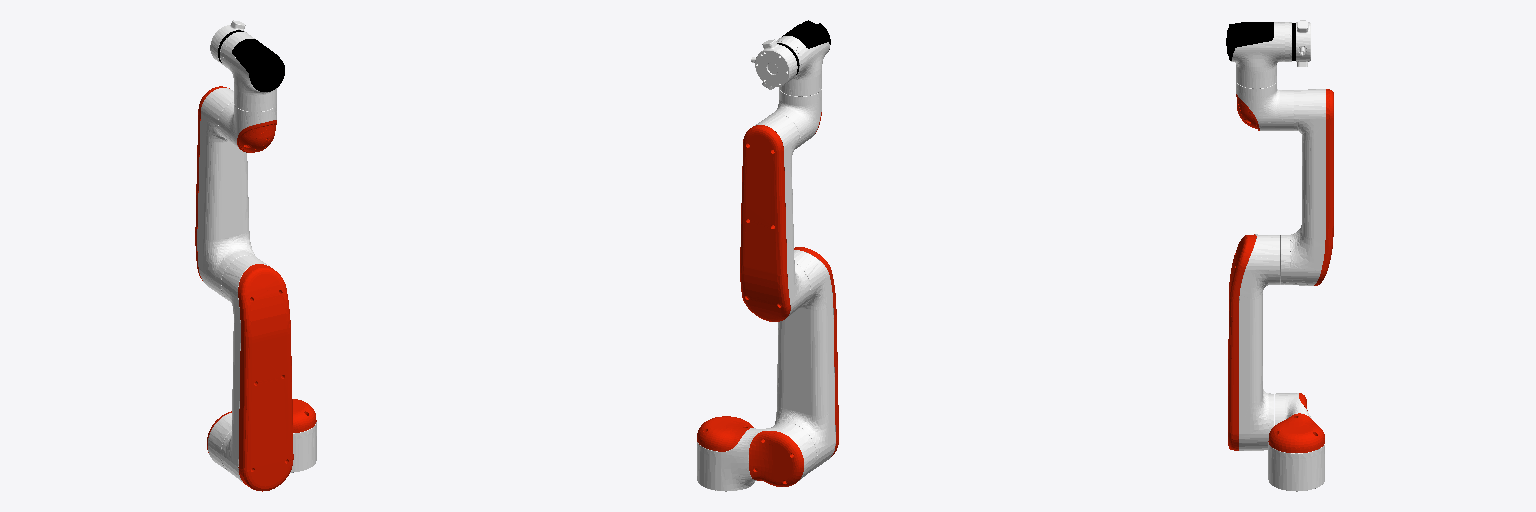
URDF robot description (rm_eco65):
<?xml version='1.0' encoding='UTF-8'?>
<!-- This URDF was automatically created by SolidWorks to URDF Exporter! Originally created by Stephen Brawner (brawner@gmail.com)
     Commit Version: 1.6.0-1-g15f4949  Build Version: 1.6.7594.29634
     For more information, please see http://wiki.ros.org/sw_urdf_exporter-->
<robot name="rm_eco65">
  <link name="baselink">
    <inertial>
      <origin rpy="0 0 0" xyz="0.003036 -0.000732 0.035587"/>
      <mass value="0.379"/>
      <inertia ixx="0.00052904" ixy="6.208e-06" ixz="-4.25e-05" iyy="0.000554542" iyz="7.765e-06" izz="0.000472967"/>
    </inertial>
    <visual>
      <origin rpy="0 0 0" xyz="0 0 0"/>
      <geometry>
        <mesh filename="package://rm_description/meshes/dae/eco65/base_link.dae"/>
      </geometry>
    </visual>
    <collision>
      <origin xyz="0 0 0" rpy="0 0 0"/>
      <geometry>
        <mesh filename="package://rm_description/meshes/ECO65/baselink.STL"/>
      </geometry>
    </collision>
  </link>
  <link name="Link1">
    <inertial>
      <origin rpy="0 0 0" xyz="-0.011054685 2.7361459e-05 -0.03347252"/>
      <mass value="1.50782"/>
      <inertia ixx="0.0019588448" ixy="-2.3338144e-05" ixz="0.00053244189" iyy="0.0031016399" iyz="9.1355063e-06" izz="0.002425702"/>
    </inertial>
    <visual>
      <origin rpy="0 0 0" xyz="0 0 0"/>
      <geometry>
        <mesh filename="package://rm_description/meshes/dae/eco65/link_1.dae"/>
      </geometry>
    </visual>
    <collision>
      <origin xyz="0 0 0" rpy="0 0 0"/>
      <geometry>
        <mesh filename="package://rm_description/meshes/ECO65/Link1.STL"/>
      </geometry>
    </collision>
  </link>
  <joint name="joint1" type="revolute">
    <origin xyz="0 0 0.1625" rpy="0 0 0"/>
    <parent link="baselink"/>
    <child link="Link1"/>
    <axis xyz="0 0 1"/>
    <limit effort="60" lower="-3.106686" upper="3.106686" velocity="3.141593"/>
  </joint>
  <link name="Link2">
    <inertial>
      <origin rpy="0 0 0" xyz="-1.1827560982036e-05 0.0581820316859641 0.0523635875292498"/>
      <mass value="2.0227481"/>
      <inertia ixx="0.0173147479782545" ixy="-6.2090363142666e-06" ixz="2.96020913640401e-06" iyy="0.00227460292023923" iyz="-0.00144144918722487" izz="0.0172255442015063"/>
    </inertial>
    <visual>
      <origin rpy="3.14158898038469 7.34641020661009e-06 1.5707963267814" xyz="0 0 0"/>
      <geometry>
        <mesh filename="package://rm_description/meshes/dae/eco65/link_2.dae"/>
      </geometry>
    </visual>
    <collision>
      <origin rpy="3.14158898038469 7.34641020661009e-06 1.5707963267814" xyz="0 0 0"/>
      <geometry>
        <mesh filename="package://rm_description/meshes/ECO65/Link2.STL"/>
      </geometry>
    </collision>
  </link>
  <joint name="joint2" type="revolute">
    <origin rpy="1.5708 0 0" xyz="-0.086 0 0"/>
    <parent link="Link1"/>
    <child link="Link2"/>
    <axis xyz="3.67320510324953e-06 -7.3464102065635e-06 -0.999999999966269"/>
    <limit effort="60" lower="-3.106686" upper="2.356194" velocity="3.141593"/>
  </joint>
  <link name="Link3">
    <inertial>
      <origin rpy="0 0 0" xyz="0.0927608650369262 -9.35058669887521e-05 0.00181173169117229"/>
      <mass value="1.8858232"/>
      <inertia ixx="0.00191652381683187" ixy="-3.36456196501919e-06" ixz="-0.00169426703402793" iyy="0.0224831040748002" iyz="4.49340801680471e-06" izz="0.0218928120083679"/>
    </inertial>
    <visual>
      <origin rpy="-1.10196153102445e-05 -7.34638322152925e-06 3.67327256545311e-06" xyz="0 0 0"/>
      <geometry>
        <mesh filename="package://rm_description/meshes/dae/eco65/link_3.dae"/>
      </geometry>
    </visual>
    <collision>
      <origin rpy="-1.10196153102445e-05 -7.34638322152925e-06 3.67327256545311e-06" xyz="0 0 0"/>
      <geometry>
        <mesh filename="package://rm_description/meshes/ECO65/Link3.STL"/>
      </geometry>
    </collision>
  </link>
  <joint name="joint3" type="revolute">
    <origin rpy="-3.14158530717959 0 1.5708" xyz="3.50802442650178e-12 0.259999999992984 -1.9100666536913e-06"/>
    <parent link="Link2"/>
    <child link="Link3"/>
    <axis xyz="-7.34642369894967e-06 1.101958832465e-05 0.999999999912299"/>
    <limit effort="30" lower="-2.792527" upper="2.530727" velocity="3.926991"/>
  </joint>
  <link name="Link4">
    <inertial>
      <origin rpy="0 0 0" xyz="-4.01148883191065e-05 -0.0349601672193299 0.00380178317316994"/>
      <mass value="0.57008114"/>
      <inertia ixx="0.000497615349667958" ixy="5.35705039856691e-07" ixz="6.17233202862662e-07" iyy="0.000316732930736851" iyz="-7.576478576108e-05" izz="0.000466587199595189"/>
    </inertial>
    <visual>
      <origin rpy="-7.3463427445208e-06 1.10196422946629e-05 3.67319161125999e-06" xyz="0 0 0"/>
      <geometry>
        <mesh filename="package://rm_description/meshes/dae/eco65/link_4.dae"/>
      </geometry>
    </visual>
    <collision>
      <origin rpy="-7.3463427445208e-06 1.10196422946629e-05 3.67319161125999e-06" xyz="0 0 0"/>
      <geometry>
        <mesh filename="package://rm_description/meshes/ECO65/Link4.STL"/>
      </geometry>
    </collision>
  </link>
  <joint name="joint4" type="revolute">
    <origin rpy="0 0 1.5708" xyz="0.240000432549332 2.32752055130155e-07 -0.0588782368628631"/>
    <parent link="Link3"/>
    <child link="Link4"/>
    <axis xyz="1.10196153094966e-05 7.34638322169204e-06 0.999999999912299"/>
    <limit effort="10" lower="-3.106686" upper="3.106686" velocity="3.926991"/>
  </joint>
  <link name="Link5">
    <inertial>
      <origin rpy="0 0 0" xyz="-3.94947255713416e-05 0.0226471863250741 -0.00736581902916809"/>
      <mass value="0.64138580"/>
      <inertia ixx="0.000623392164126553" ixy="-5.34181904997698e-07" ixz="-5.63337361425283e-07" iyy="0.000393373805621096" iyz="-0.000113396956738583" izz="0.00055741652025235"/>
    </inertial>
    <visual>
      <origin rpy="-7.34638322158019e-06 3.67315113369848e-06 -1.10196557870313e-05" xyz="0 0 0"/>
      <geometry>
        <mesh filename="package://rm_description/meshes/dae/eco65/link_5.dae"/>
      </geometry>
    </visual>
    <collision>
      <origin rpy="-7.34638322158019e-06 3.67315113369848e-06 -1.10196557870313e-05" xyz="0 0 0"/>
      <geometry>
        <mesh filename="package://rm_description/meshes/ECO65/Link5.STL"/>
      </geometry>
    </collision>
  </link>
  <joint name="joint5" type="revolute">
    <origin rpy="1.5708 0 0" xyz="4.04059982175579e-07 -0.10999999999629 8.08097701837738e-07"/>
    <parent link="Link4"/>
    <child link="Link5"/>
    <axis xyz="3.67323208790056e-06 7.34634274417768e-06 0.999999999966269"/>
    <limit effort="10" lower="-3.106686" upper="3.106686" velocity="3.926991"/>
  </joint>
  <link name="Link6">
    <inertial>
      <origin rpy="0 0 0" xyz="0.000447725707649944 -0.000213552855705973 -0.0103357983658304"/>
      <mass value="0.085705209"/>
      <inertia ixx="3.30270919354927e-05" ixy="-2.54214741276868e-06" ixz="1.02639934585639e-07" iyy="3.02066550894742e-05" iyz="-8.39420734887784e-08" izz="5.14596739750329e-05"/>
    </inertial>
    <visual>
      <origin rpy="-7.3463427445208e-06 1.10196422946629e-05 3.67319161125999e-06" xyz="0 0 0"/>
      <geometry>
        <mesh filename="package://rm_description/meshes/dae/eco65/link_6.dae"/>
      </geometry>
    </visual>
    <collision>
      <origin rpy="-7.3463427445208e-06 1.10196422946629e-05 3.67319161125999e-06" xyz="0 0 0"/>
      <geometry>
        <mesh filename="package://rm_description/meshes/ECO65/Link6.STL"/>
      </geometry>
    </collision>
  </link>
  <joint name="joint6" type="revolute">
    <origin rpy="-1.5708 0 0" xyz="8.76060489767413e-07 0.0794999999930277 -5.84037466108757e-07"/>
    <parent link="Link5"/>
    <child link="Link6"/>
    <axis xyz="1.10196153094966e-05 7.34638322169204e-06 0.999999999912299"/>
    <limit effort="10" lower="-6.283185" upper="6.283185" velocity="3.926991"/>
  </joint>
</robot>

--- What the picture shows (computed from the rendered views, not written in the file) ---
The picture shows the robot from 3 angles, left to right: view 1: azimuth 30°, elevation 25°; view 2: azimuth 150°, elevation 25°; view 3: azimuth 270°, elevation 25°; orthographic projection.
Model rm_eco65 with 7 links and 6 joints (6 revolute), rooted at baselink, posed every joint at zero.
Visible links, largest first — view 1: Link2, Link3, Link5, Link1, Link4, Link6; view 2: Link3, Link2, Link1, Link5, Link6, Link4; view 3: Link2, Link3, Link1, Link5, Link4, Link6.
Boxes of the visible links, x1,y1,x2,y2 form: Link2: (221,255,293,491); Link3: (195,86,255,298); Link5: (220,32,284,111); Link1: (207,399,316,472); Link4: (218,102,276,152); Link6: (210,20,256,64); Link3: (740,114,810,321); Link2: (775,247,838,470); Link1: (697,416,816,491); Link5: (776,20,830,96); Link6: (751,39,799,89); Link4: (769,89,821,148); Link2: (1228,234,1279,450); Link3: (1280,89,1333,285); Link1: (1268,393,1324,491); Link5: (1226,22,1290,88); Link4: (1236,82,1293,130); Link6: (1291,20,1310,66).
Bounding box of the posed robot: 0.1697 × 0.1579 × 0.6992 m (x, y, z).
6 mesh visuals loaded from 7 distinct referenced files (6 Collada DAE); not drawn: 1 (reference not matched to a file when rendering).
